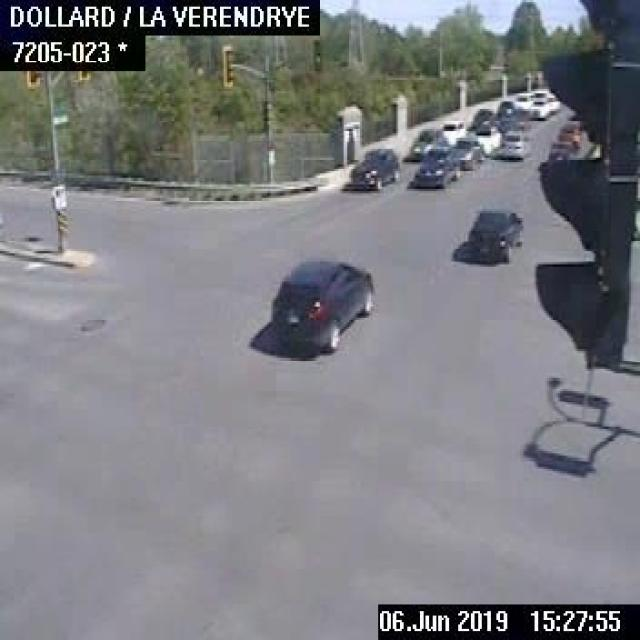vehicle: (262, 255, 376, 349), (464, 204, 524, 258), (344, 142, 402, 189), (544, 109, 584, 158), (407, 148, 461, 184), (406, 127, 446, 158), (448, 138, 481, 170), (495, 129, 526, 162), (472, 123, 499, 155), (494, 98, 518, 130), (469, 106, 493, 132), (440, 118, 464, 144), (530, 94, 548, 118), (513, 92, 529, 113)
